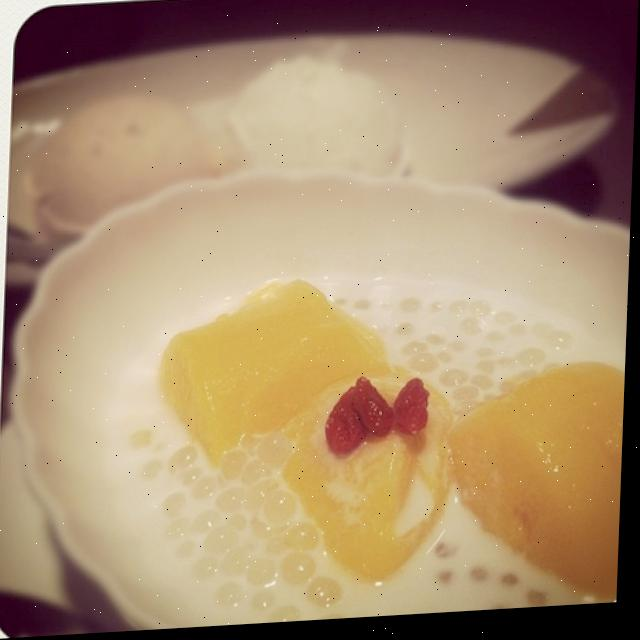米饭主食: (0, 18, 639, 506)
